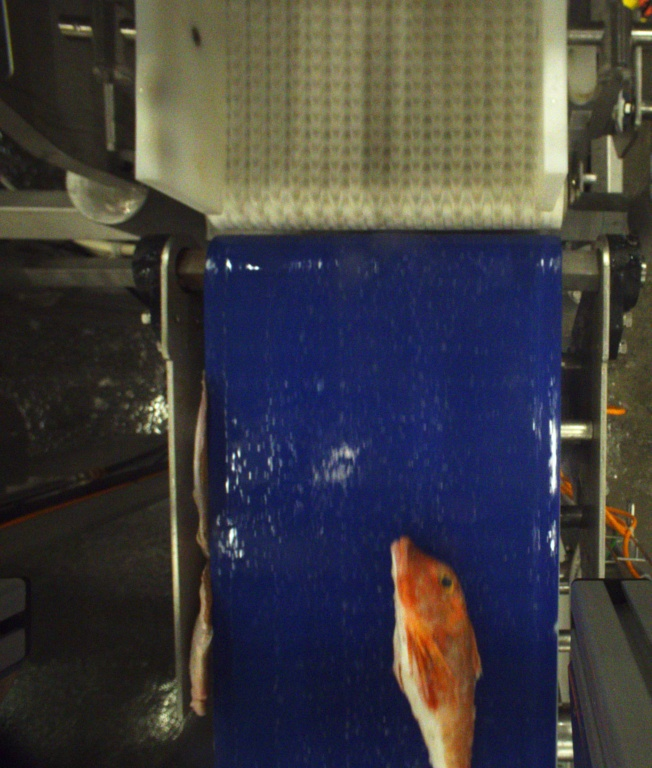GUU: (387, 538, 484, 768)
